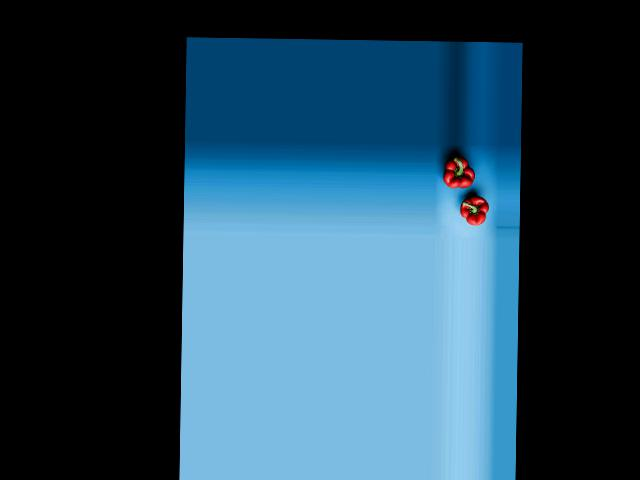bell_pepper: (443, 152, 478, 195)
